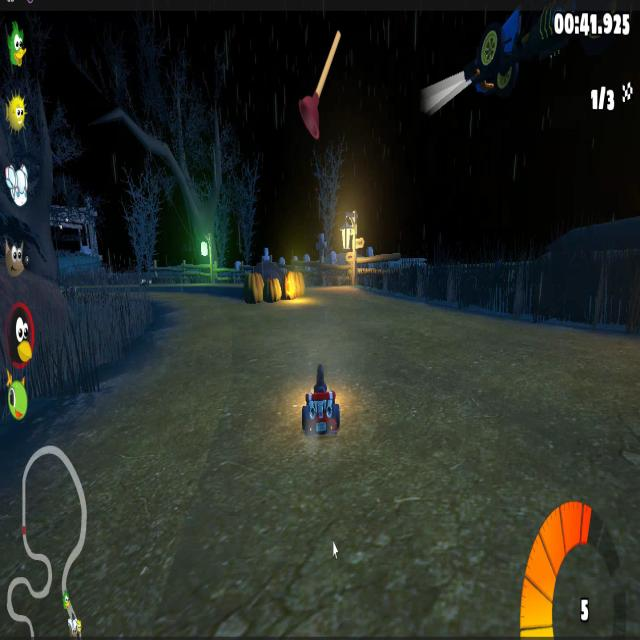player_kart: (293, 367, 343, 443)
track: (0, 453, 640, 627), (345, 326, 640, 443), (71, 396, 296, 449), (119, 345, 291, 391), (161, 296, 429, 323), (162, 316, 290, 345), (297, 325, 345, 362), (153, 304, 255, 314), (150, 287, 188, 302)
